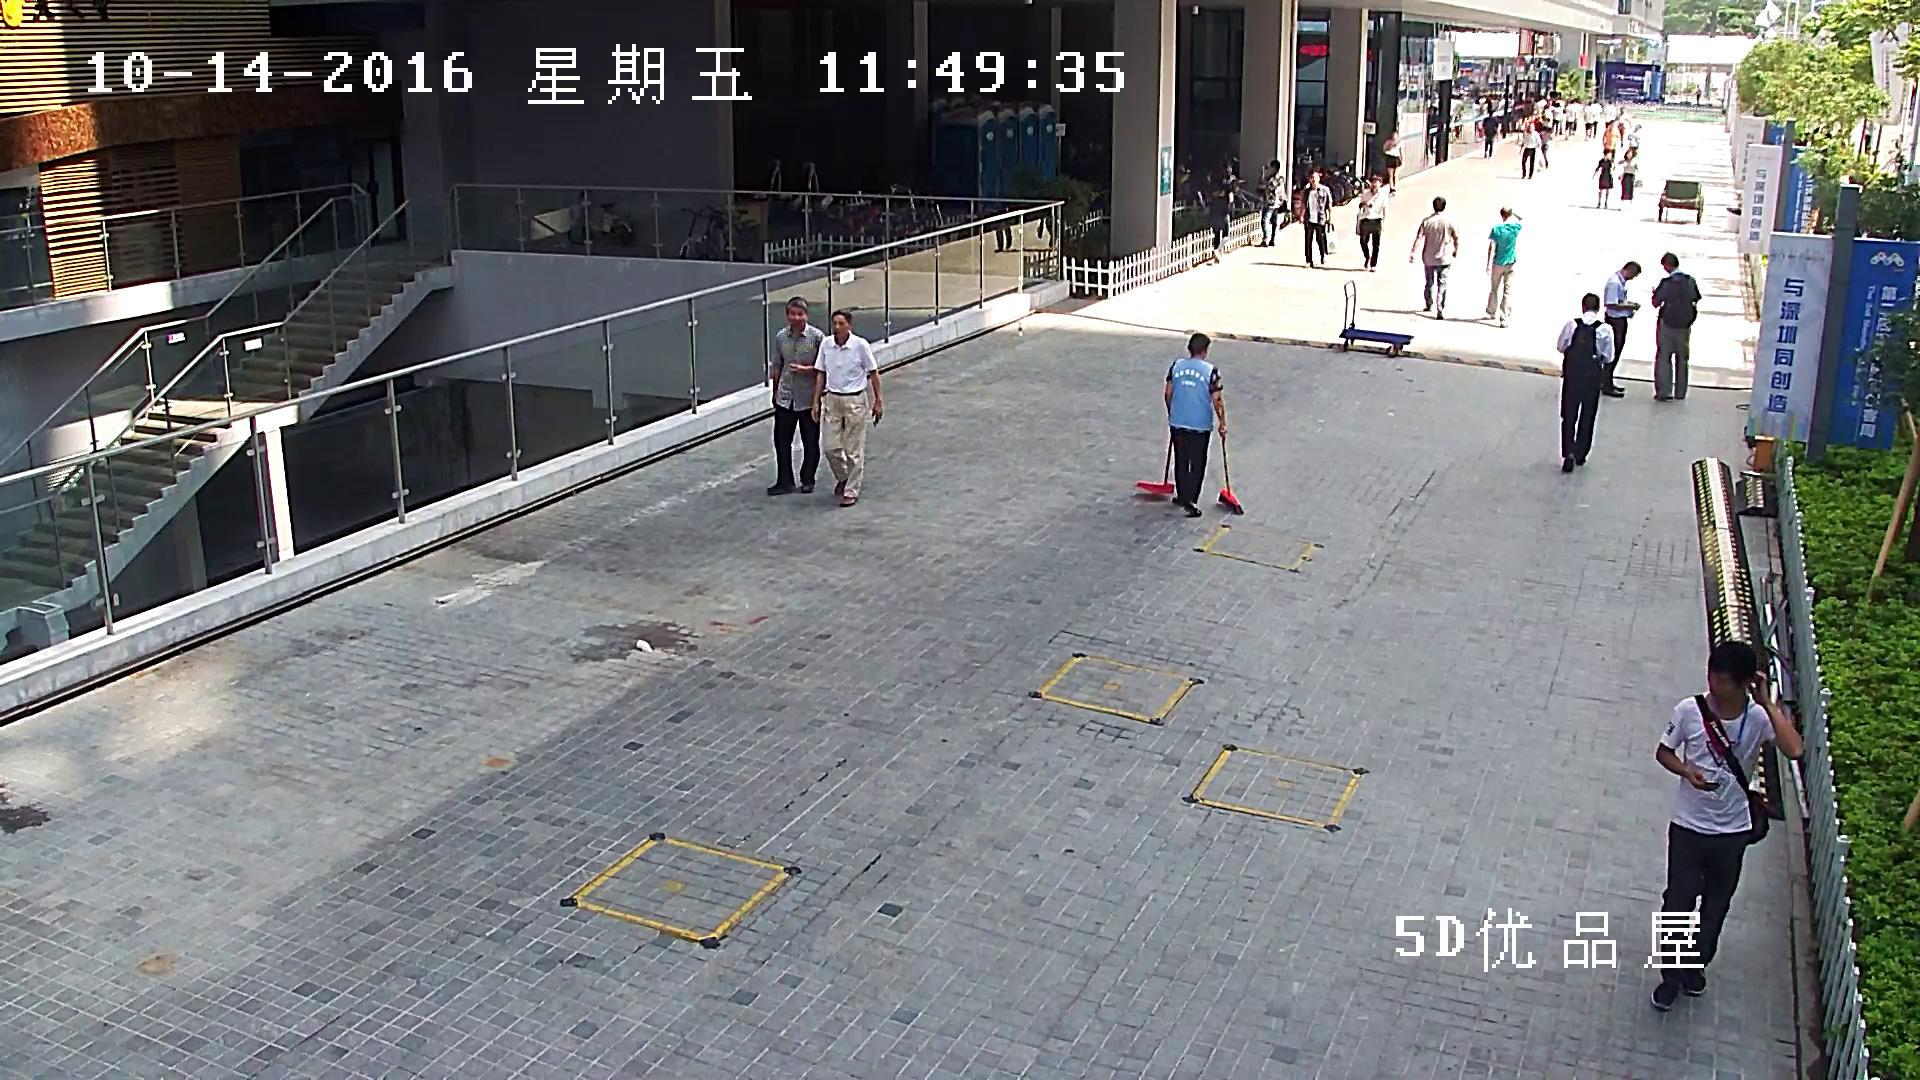person: (1649, 641, 1802, 1012), (1134, 333, 1243, 517), (811, 309, 882, 506), (767, 295, 825, 494), (1164, 334, 1226, 516), (1555, 292, 1615, 473), (1650, 252, 1702, 400), (1409, 196, 1458, 321), (1602, 261, 1640, 397), (1484, 204, 1523, 329), (1299, 169, 1336, 268), (1354, 173, 1385, 272), (1255, 159, 1286, 247), (1211, 184, 1229, 263), (1618, 148, 1643, 204), (1591, 147, 1613, 209), (1382, 129, 1400, 197), (1520, 121, 1540, 179), (993, 215, 1013, 254), (1483, 111, 1498, 158), (1614, 107, 1631, 146), (1540, 126, 1551, 168), (1582, 101, 1593, 141), (1565, 100, 1576, 140), (1602, 120, 1615, 147), (1604, 100, 1616, 127), (1553, 102, 1563, 135), (1593, 99, 1601, 134), (1693, 83, 1700, 104)
